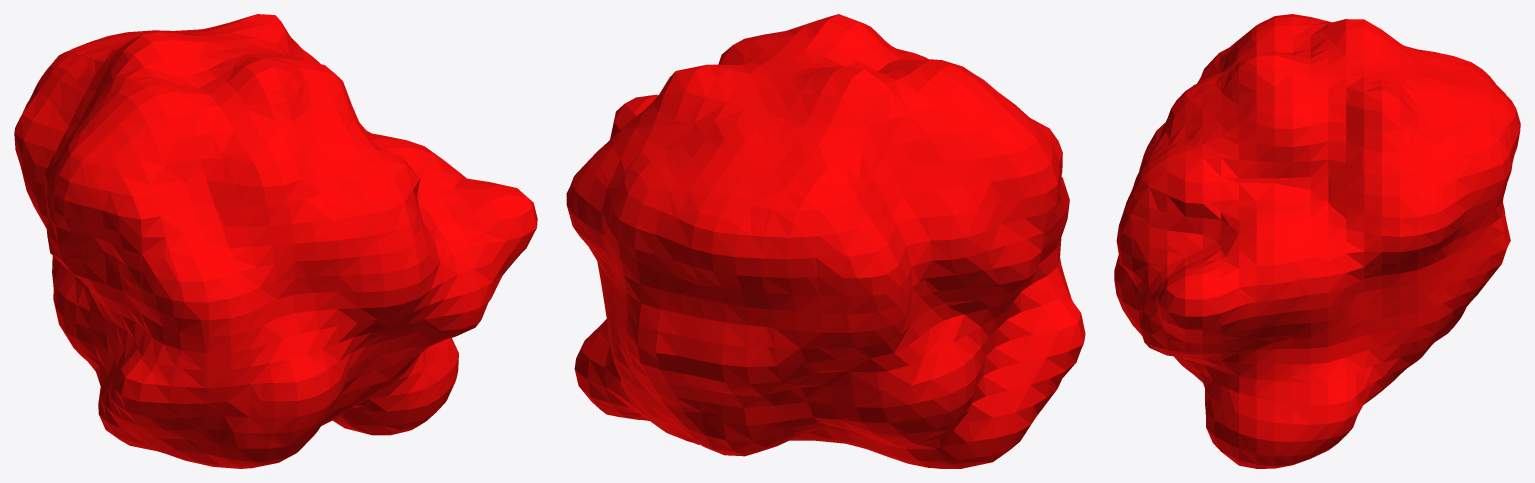
File: rihC_coarse.dae
3 renders of one model, left to right at view 1: azimuth 30°, elevation 25°; view 2: azimuth 150°, elevation 25°; view 3: azimuth 270°, elevation 25°, orthographic. The views are drawn at different scales.
Parts seen in each view (by area): view 1: rihC; view 2: rihC; view 3: rihC.
Part boxes in pixels (<box>): rihC: <box>14,14,537,468</box>; rihC: <box>566,14,1085,468</box>; rihC: <box>1114,14,1520,468</box>.
Size of the model in its own units: 54.81 by 48.6 by 50.15.
